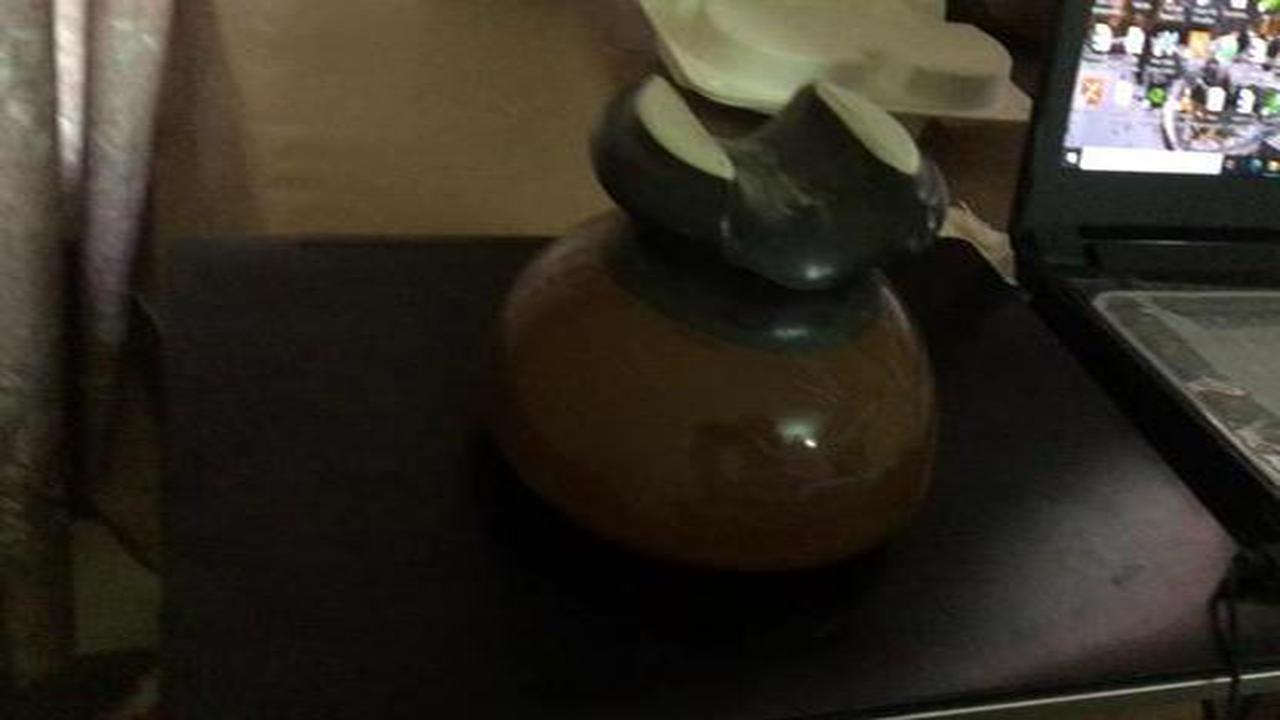insulator_pin: (447, 54, 1004, 594)
